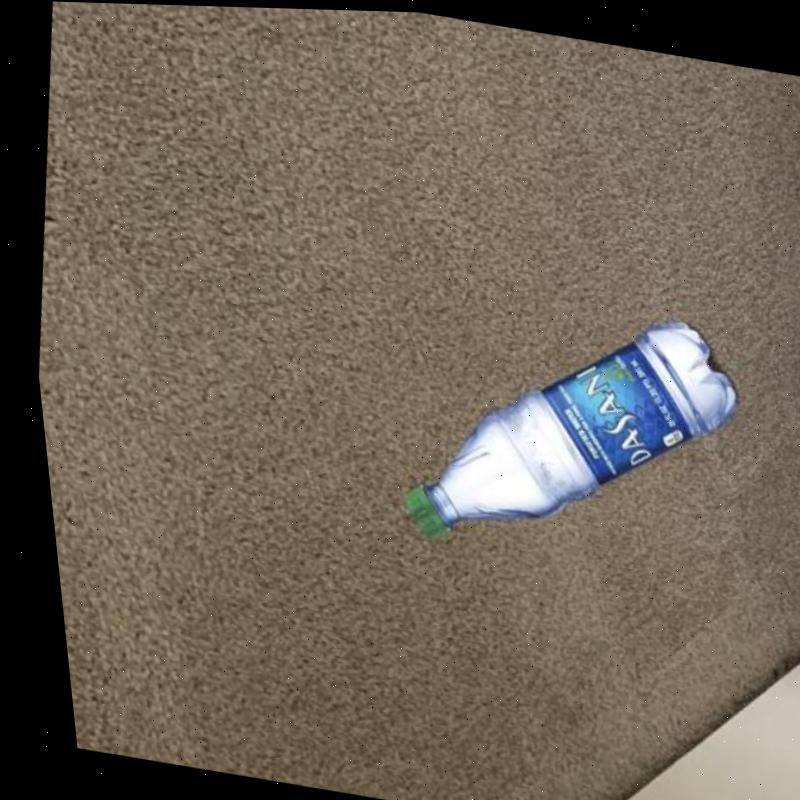botella: (372, 276, 750, 577)
